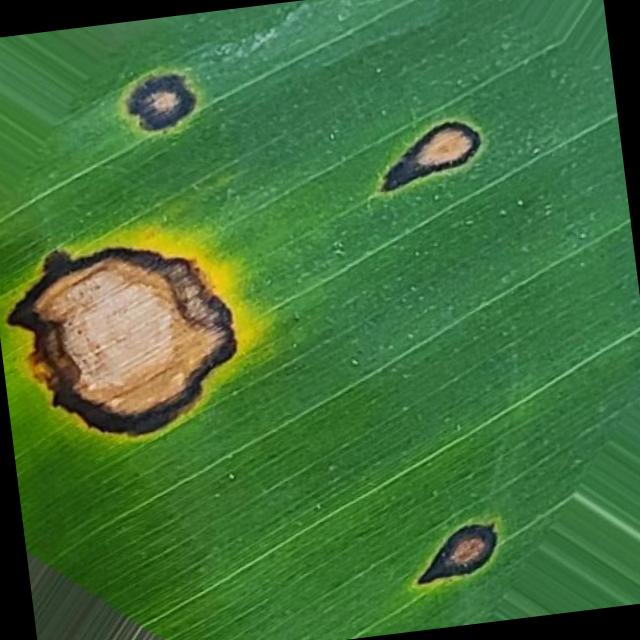Banana_Black_Sigatoka: (0, 185, 283, 473), (346, 430, 580, 636), (329, 68, 555, 218), (104, 58, 250, 162)
